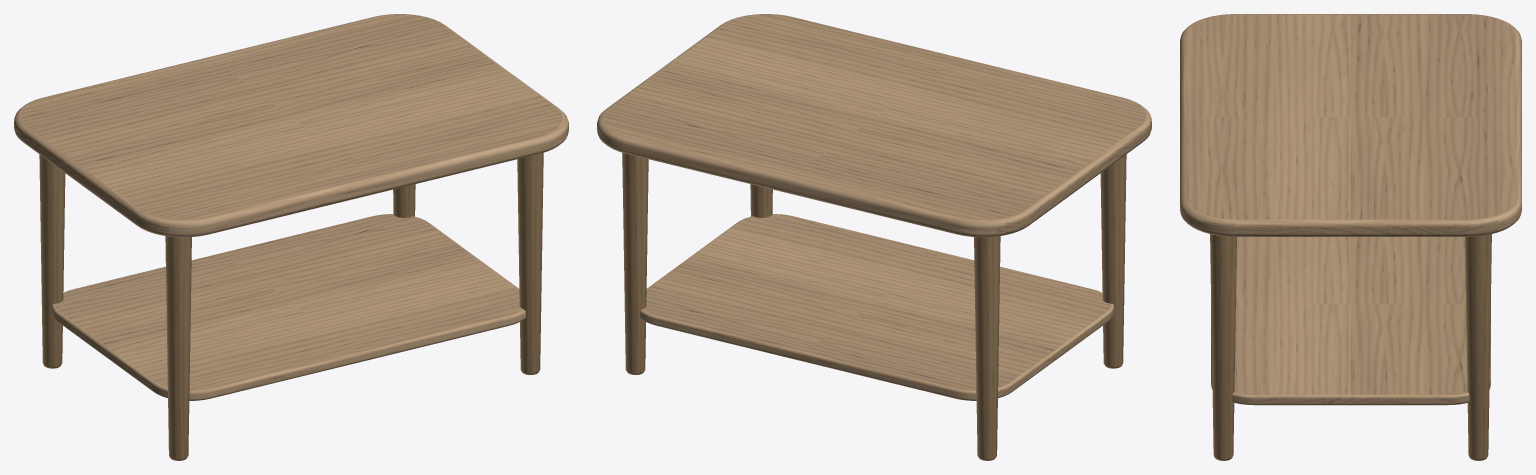
3 views of the same model, side by side, from view 1: azimuth 30°, elevation 25°; view 2: azimuth 150°, elevation 25°; view 3: azimuth 270°, elevation 25° (orthographic).
Parts seen in each view (by area): view 1: tabletop, lower_shelf, leg_-1_1, leg_1_1, leg_-1_-1, leg_1_-1; view 2: tabletop, lower_shelf, leg_-1_-1, leg_1_-1, leg_-1_1, leg_1_1; view 3: tabletop, lower_shelf, leg_1_-1, leg_1_1.
Part boxes in pixels (<box>): tabletop: <box>14,14,568,237</box>; lower_shelf: <box>51,214,525,400</box>; leg_-1_1: <box>165,236,191,460</box>; leg_1_1: <box>517,152,543,375</box>; leg_-1_-1: <box>39,154,65,368</box>; leg_1_-1: <box>393,184,415,217</box>; tabletop: <box>597,14,1151,237</box>; lower_shelf: <box>640,214,1114,400</box>; leg_-1_-1: <box>974,236,1000,460</box>; leg_1_-1: <box>622,152,648,375</box>; leg_-1_1: <box>1100,154,1126,368</box>; leg_1_1: <box>750,184,772,217</box>; tabletop: <box>1180,14,1521,236</box>; lower_shelf: <box>1211,237,1490,405</box>; leg_1_-1: <box>1465,234,1491,460</box>; leg_1_1: <box>1210,234,1236,460</box>.
Size of the model in its own units: 0.8 by 0.45 by 0.55.
3 materials, 3 textured.
